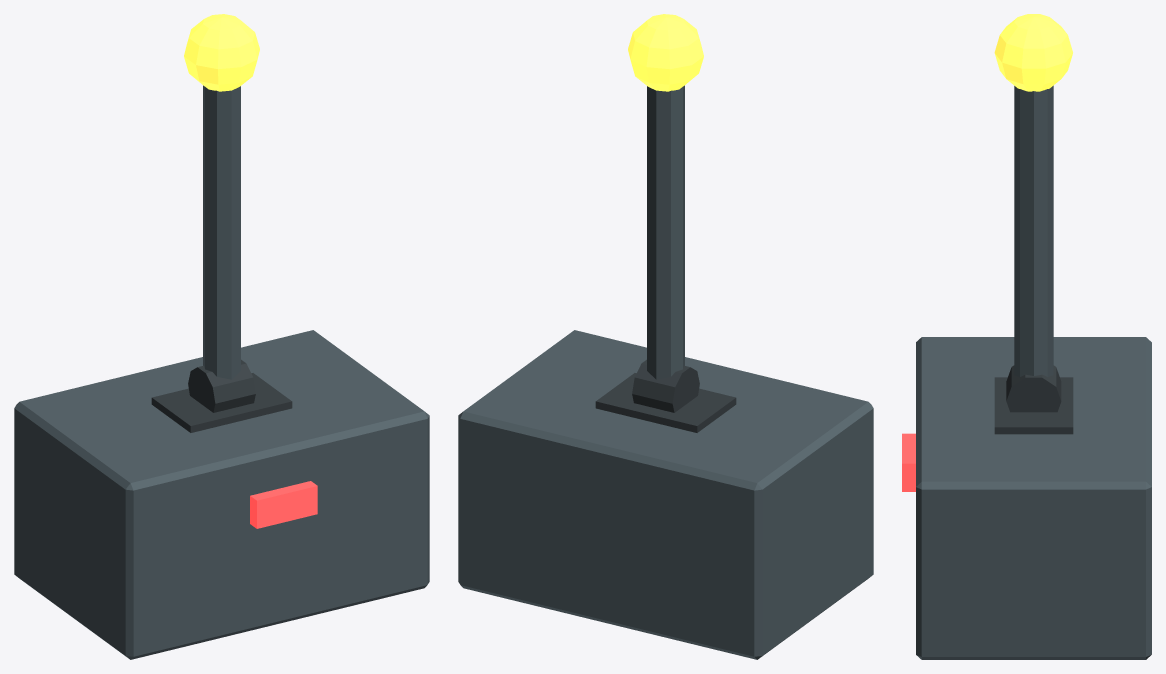
File: lab_lever_a.glb
3 renders of one model, left to right at view 1: azimuth 30°, elevation 25°; view 2: azimuth 150°, elevation 25°; view 3: azimuth 270°, elevation 25°, orthographic.
Visible parts, largest first — view 1: lab_lever_a, LeverArm, emit_knob, emit_lamp; view 2: lab_lever_a, LeverArm, emit_knob; view 3: lab_lever_a, LeverArm, emit_knob, emit_lamp.
Boxes of the visible parts, x1,y1,x2,y2 form: lab_lever_a: (14, 330, 429, 659); LeverArm: (203, 85, 240, 379); emit_knob: (184, 14, 259, 91); emit_lamp: (250, 481, 317, 528); lab_lever_a: (458, 330, 873, 659); LeverArm: (647, 85, 684, 379); emit_knob: (628, 14, 703, 91); lab_lever_a: (916, 337, 1151, 659); LeverArm: (1014, 85, 1053, 376); emit_knob: (994, 14, 1072, 91); emit_lamp: (902, 433, 915, 491).
Size of the model in its own units: 0.9 by 1.6 by 0.635.
